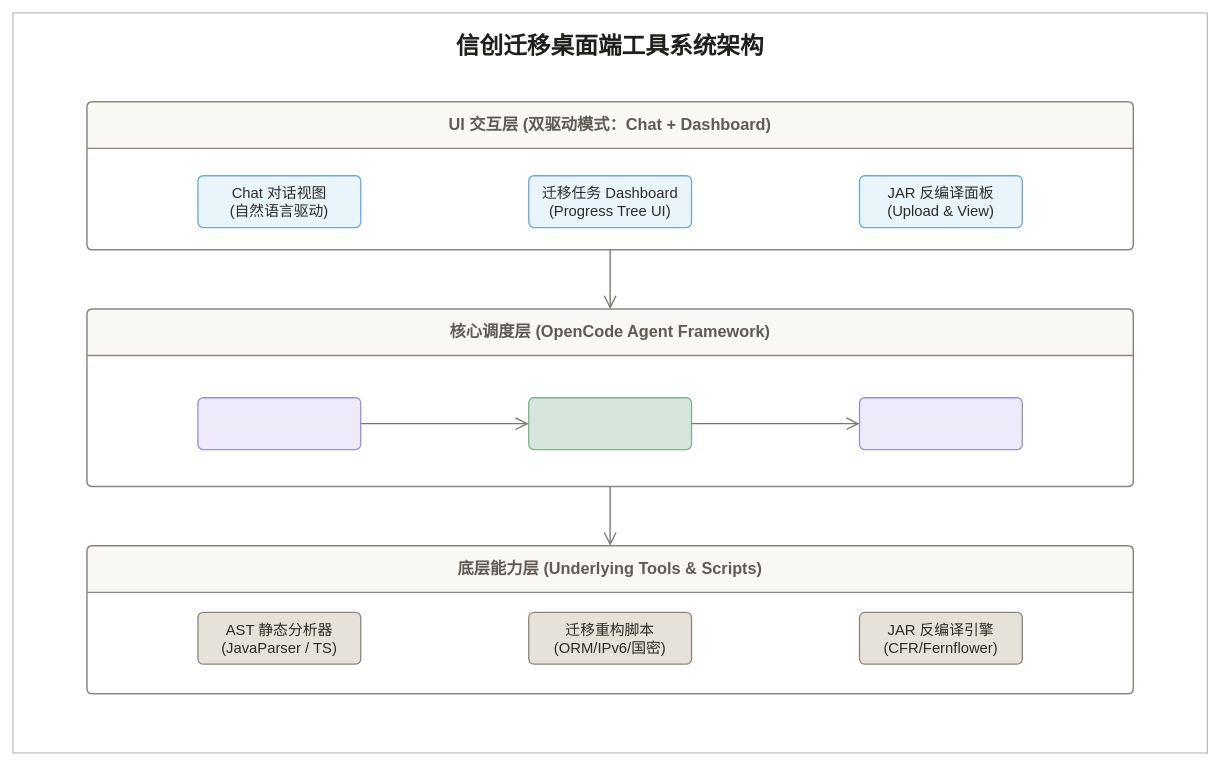
This 1221x767 diagram has some shape labels left out. The centre of each missing label's shape, as x and y in pixels:
"AI Agent 决策中枢 (Task Planning)" belongs at point 610,423.
"Git/工作区管理器 (Workspace Sync)" belongs at point 279,423.
"Skills / MCP 调度器 (Tool Execution)" belongs at point 940,423.
